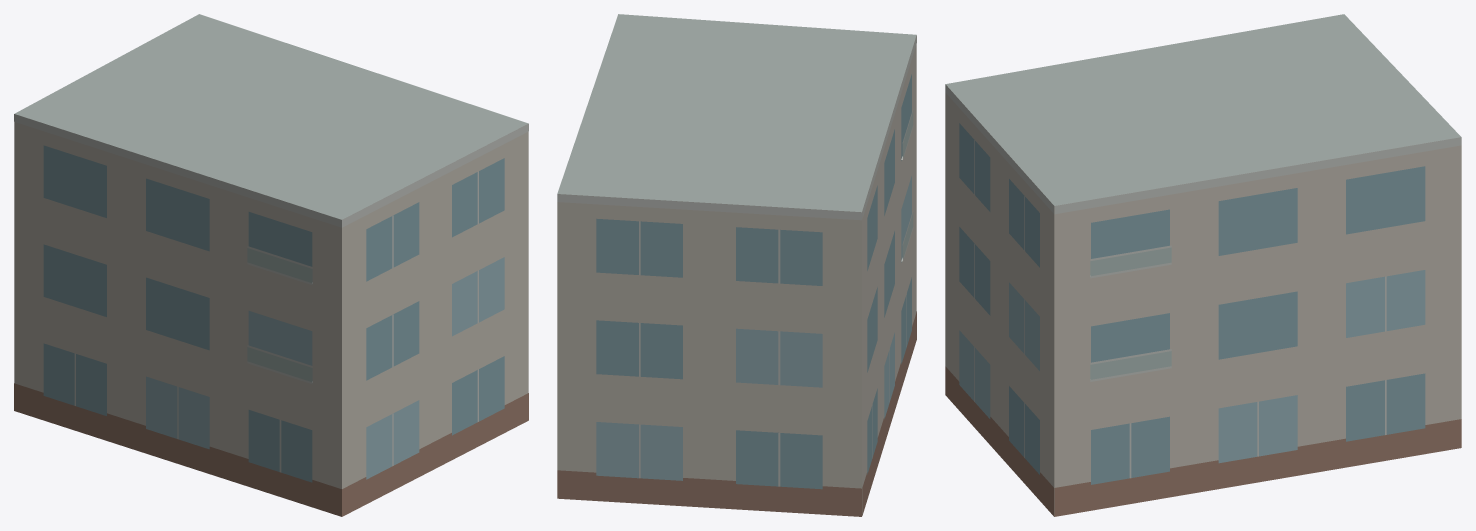
The model's file is survey-upis-32584554.glb.
3 views of the same model, side by side, from view 1: azimuth 30°, elevation 25°; view 2: azimuth 150°, elevation 25°; view 3: azimuth 270°, elevation 25° (orthographic). The views are drawn at different scales.
Parts seen in each view (by area): view 1: survey-upis-32584554.tmp; view 2: survey-upis-32584554.tmp; view 3: survey-upis-32584554.tmp.
Boxes of the visible parts, box(x1,y1,x2,y2) form: survey-upis-32584554.tmp: box(14, 14, 528, 516); survey-upis-32584554.tmp: box(557, 14, 916, 516); survey-upis-32584554.tmp: box(945, 14, 1461, 516).
Size of the model in its own units: 12.13 by 9.15 by 13.78.
